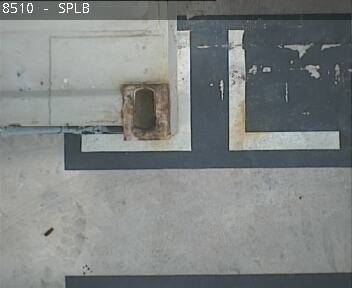groundmarker_1: (79, 29, 339, 152)
